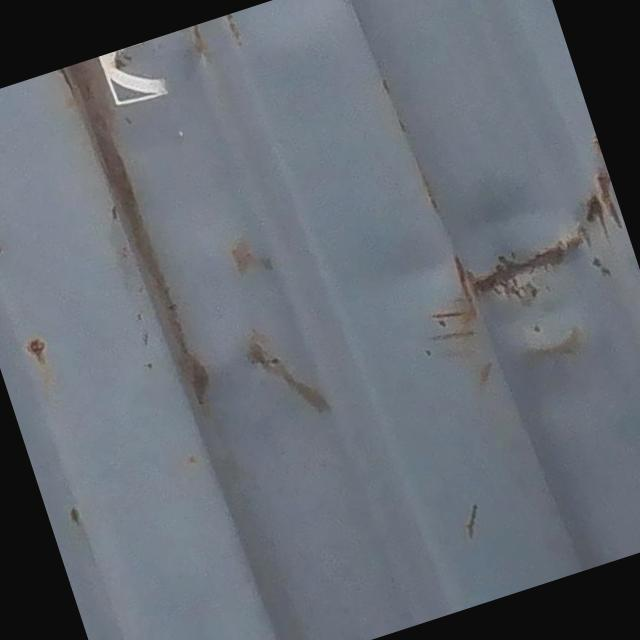rust: (427, 166, 640, 380)
